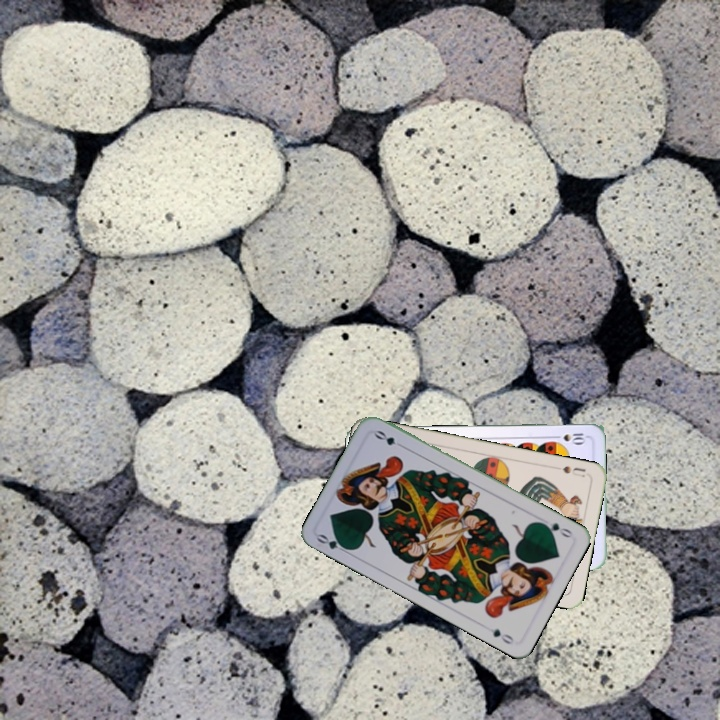GO: (313, 530, 353, 557), (536, 518, 576, 540)
S10: (549, 429, 589, 445)
SU: (551, 462, 588, 480)
